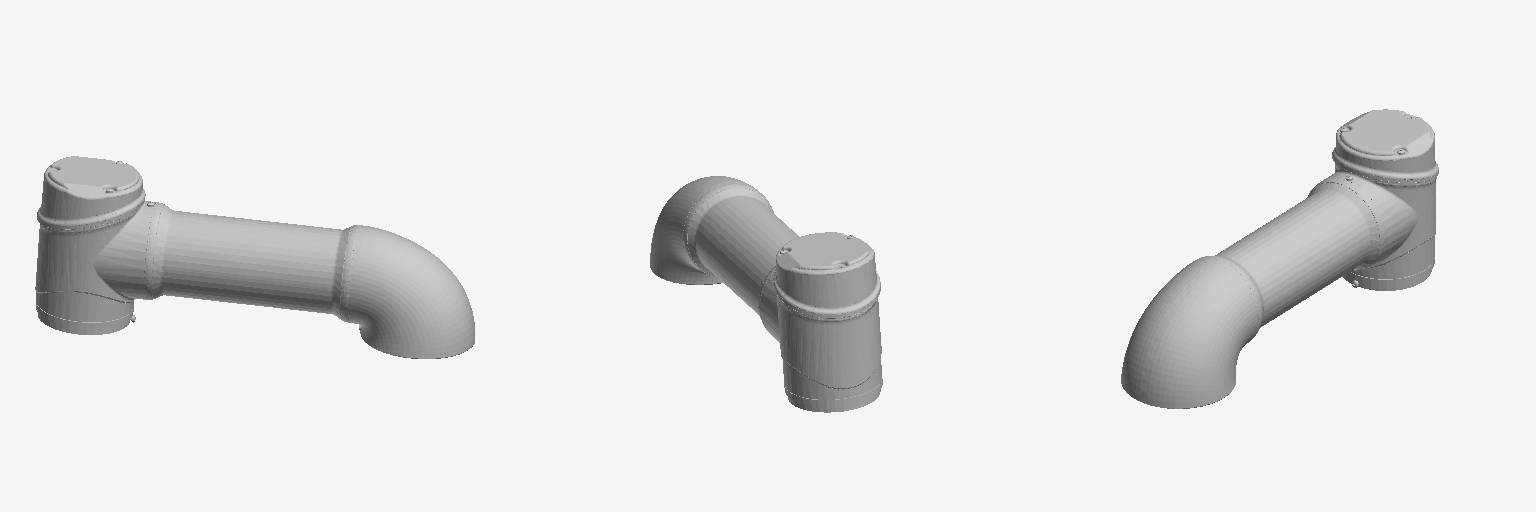
The model's file is AUBOCodo.obj.
The picture shows the model from 3 angles: view 1: azimuth 30°, elevation 25°; view 2: azimuth 150°, elevation 25°; view 3: azimuth 270°, elevation 25°; orthographic projection.
Visible parts, largest first — view 1: uploads_files_[number redacted]_i3-V2.004; view 2: uploads_files_[number redacted]_i3-V2.004; view 3: uploads_files_[number redacted]_i3-V2.004.
Boxes of the visible parts, x1=… form: uploads_files_[number redacted]_i3-V2.004: x1=35, y1=156, x2=474, y2=358; uploads_files_[number redacted]_i3-V2.004: x1=650, y1=176, x2=882, y2=412; uploads_files_[number redacted]_i3-V2.004: x1=1121, y1=109, x2=1438, y2=408.
Bounding box in the file's own units: 142 × 62.88 × 121.